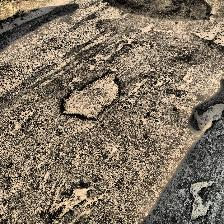pothole: (58, 66, 122, 120), (44, 186, 94, 224)
